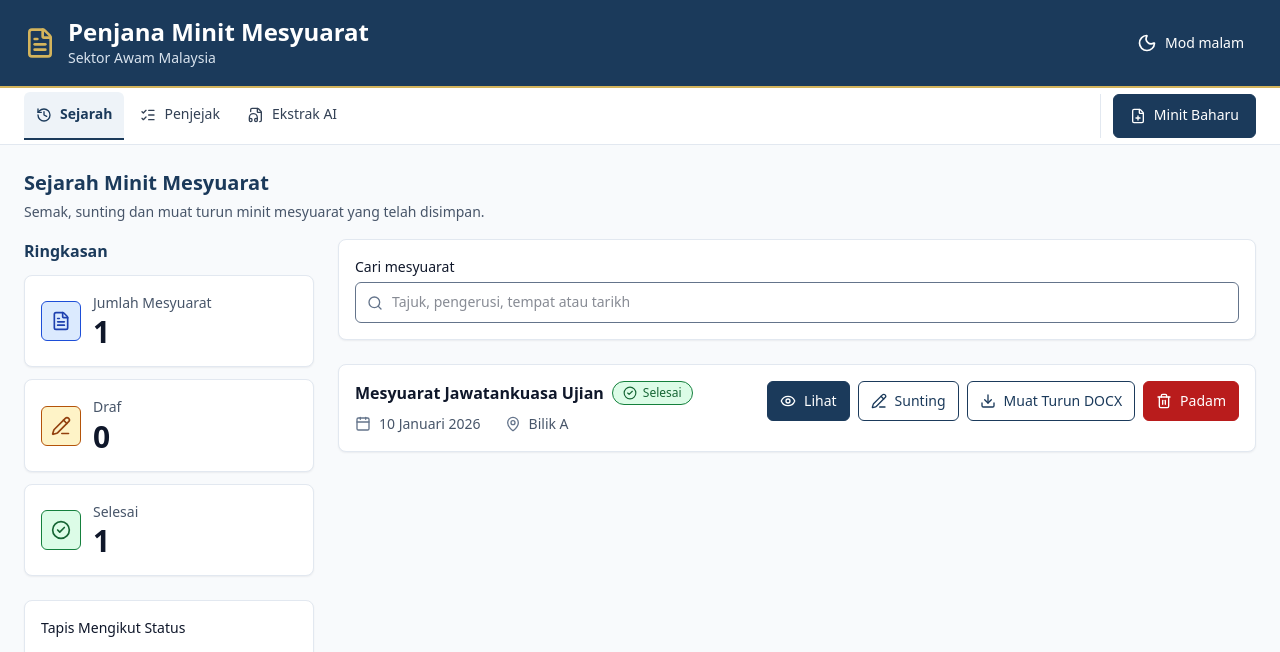
Scenario: API contract: App › Lihat sends the pre-redesign GET /api/meetings/{id}
The width and height of the screenshot is (1280, 652).
Click the button "Lihat" at (808, 401), box [767,381,850,421]
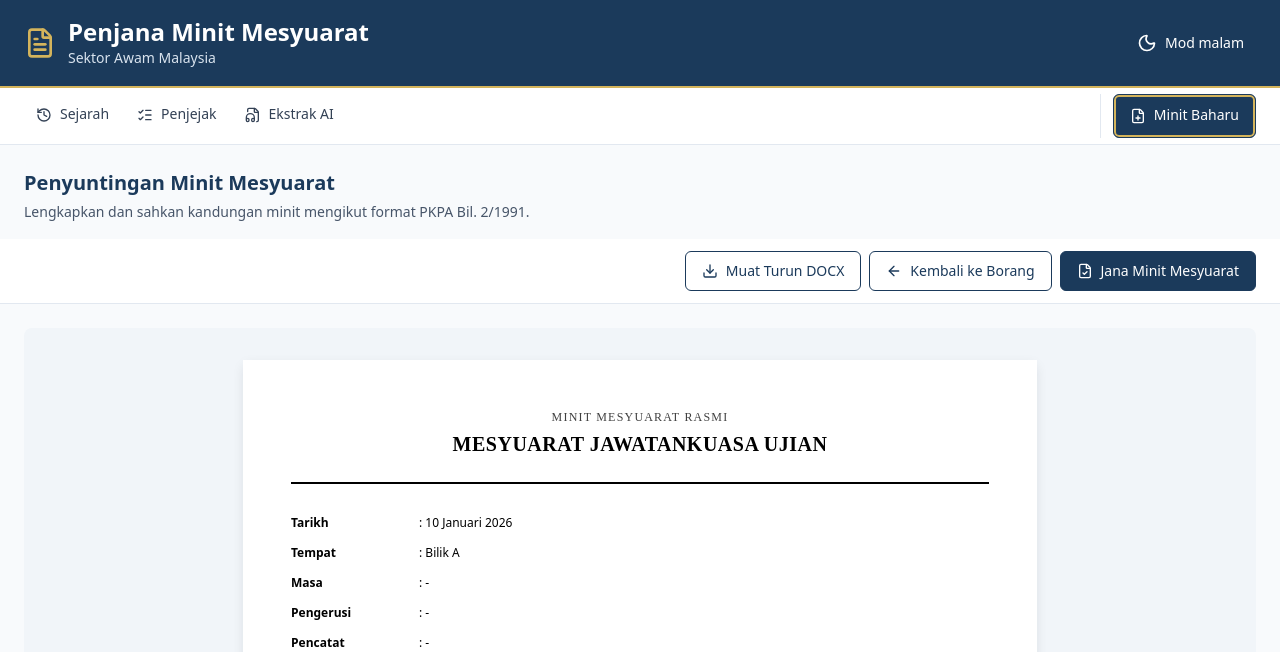
Now the heading "Penyuntingan Minit Mesyuarat" is shown, box [24,169,335,196]
